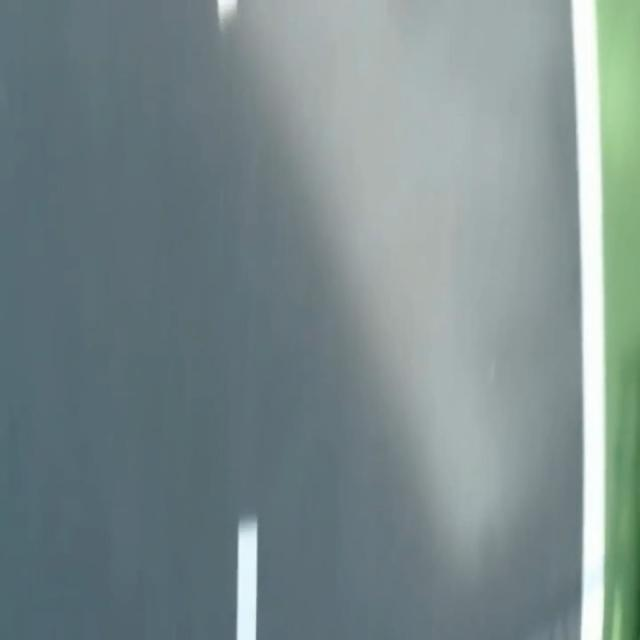center: (236, 516, 257, 639), (217, 0, 237, 25)
right: (571, 0, 604, 639)
